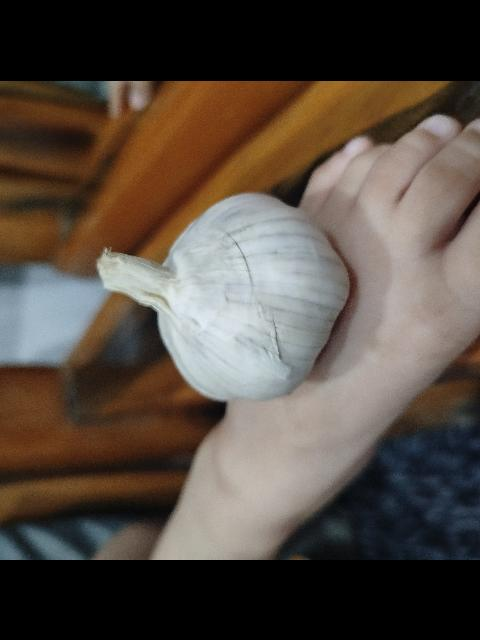garlic: (95, 190, 351, 402)
